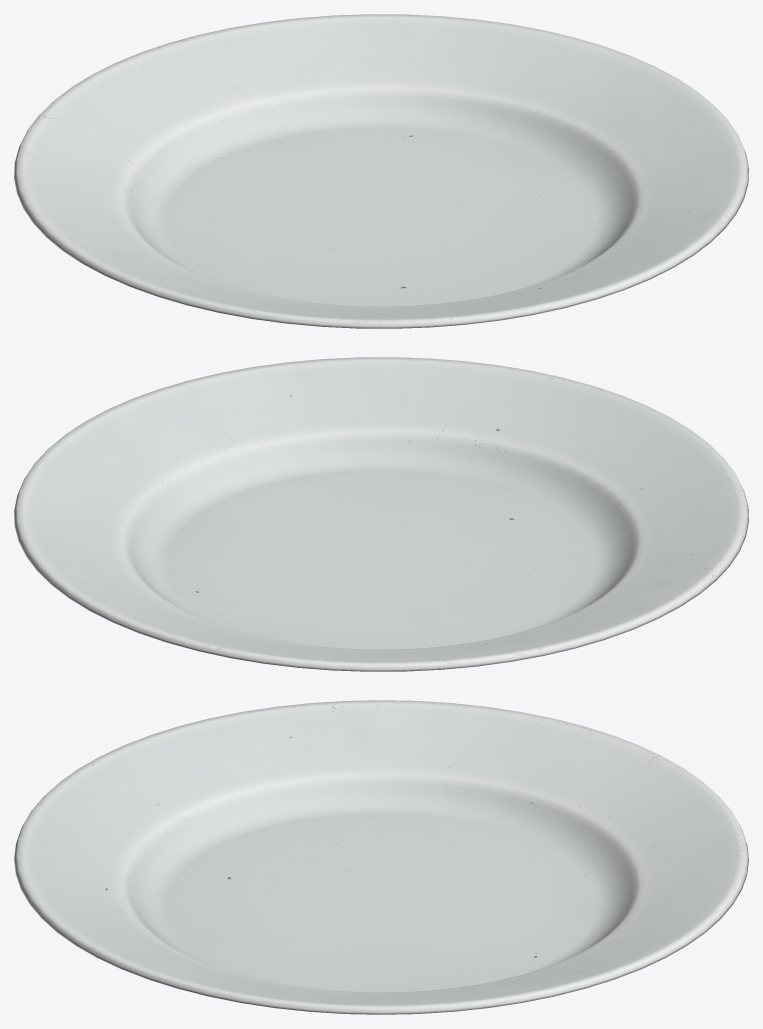
The model's file is SM_WhitePorcelainDish.fbx.
3 views of the same model, one above another, from view 1: azimuth 30°, elevation 25°; view 2: azimuth 150°, elevation 25°; view 3: azimuth 270°, elevation 25° (orthographic).
Visible parts, largest first — view 1: SM_WhitePorcelainDish; view 2: SM_WhitePorcelainDish; view 3: SM_WhitePorcelainDish.
Boxes of the visible parts, bbox=[...] form: SM_WhitePorcelainDish: bbox=[14, 14, 748, 328]; SM_WhitePorcelainDish: bbox=[14, 357, 748, 671]; SM_WhitePorcelainDish: bbox=[14, 700, 748, 1014].
Bounding box in the file's own units: 20.94 × 1.87 × 20.94.
Materials: 1 (1 with a texture image).
